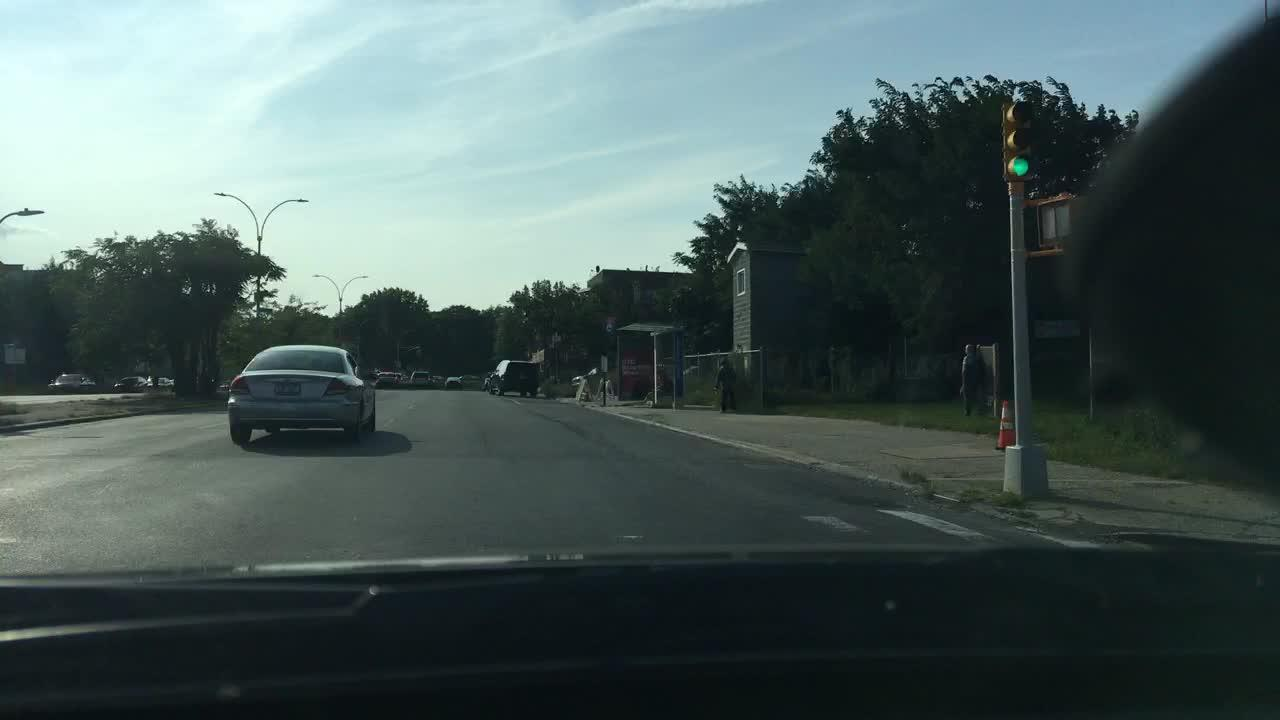Chrysler: (265, 371, 313, 388)
